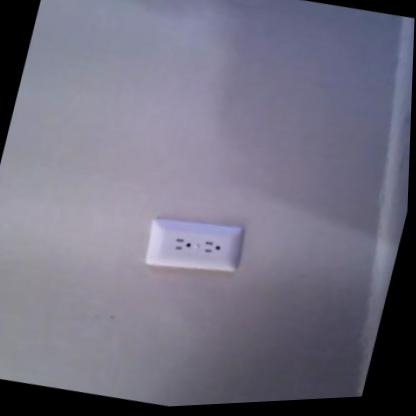OUTLET: (141, 207, 247, 283)
